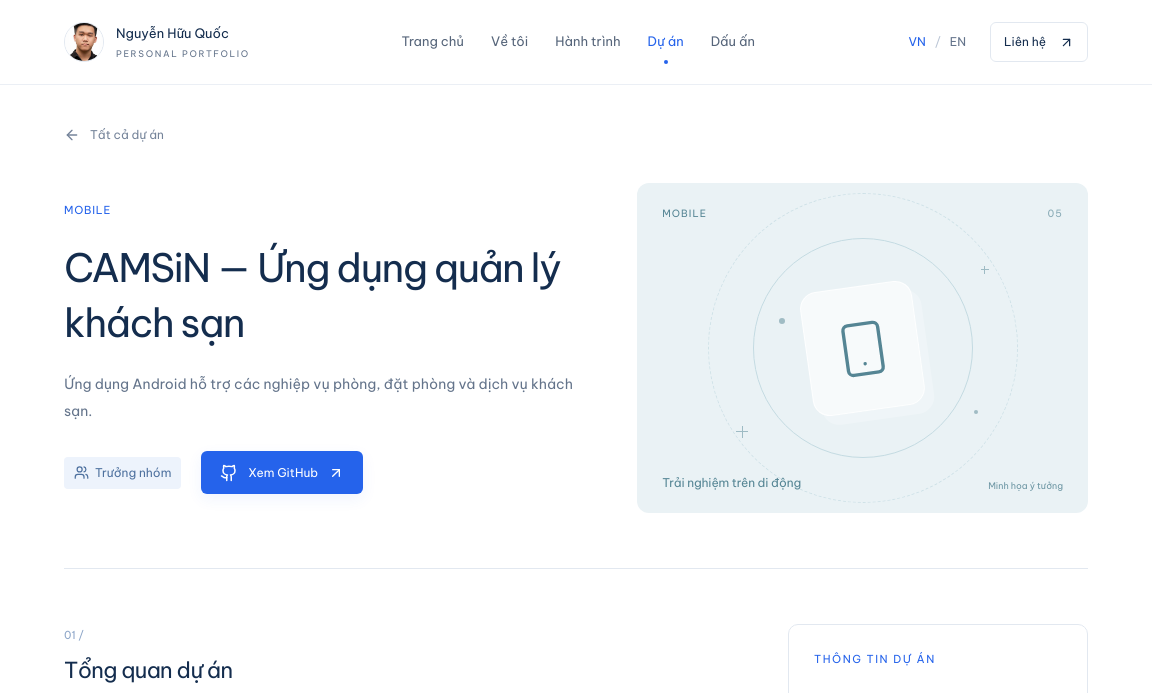
Test case: case study routes and content authenticity › opens camsin with the confirmed role and real source link
Expected: the heading "CAMSiN — Ứng dụng quản lý khách sạn" is shown, [64, 241, 582, 351]
Click the button named "English" at (958, 42), box [948, 22, 968, 62]
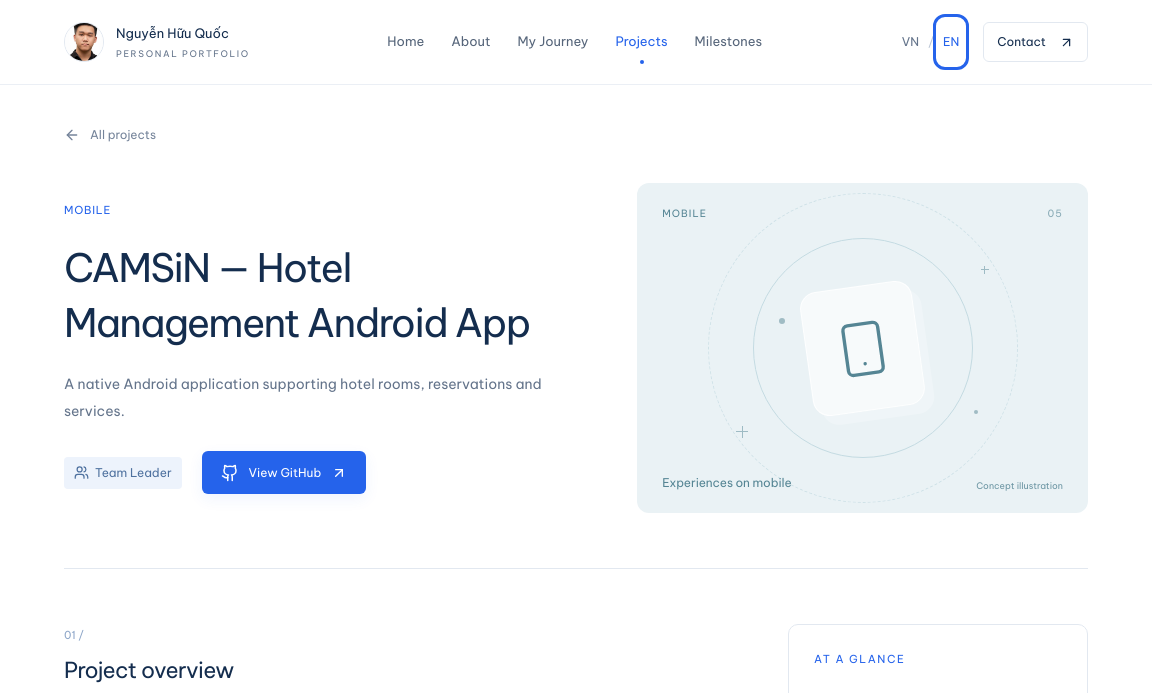
Result: the heading "CAMSiN — Hotel Management Android App" is shown at [64, 241, 582, 351]
Result: the heading "Project overview" is shown at [64, 656, 234, 684]
Result: the text "Team Leader" is shown at [64, 457, 182, 489]
